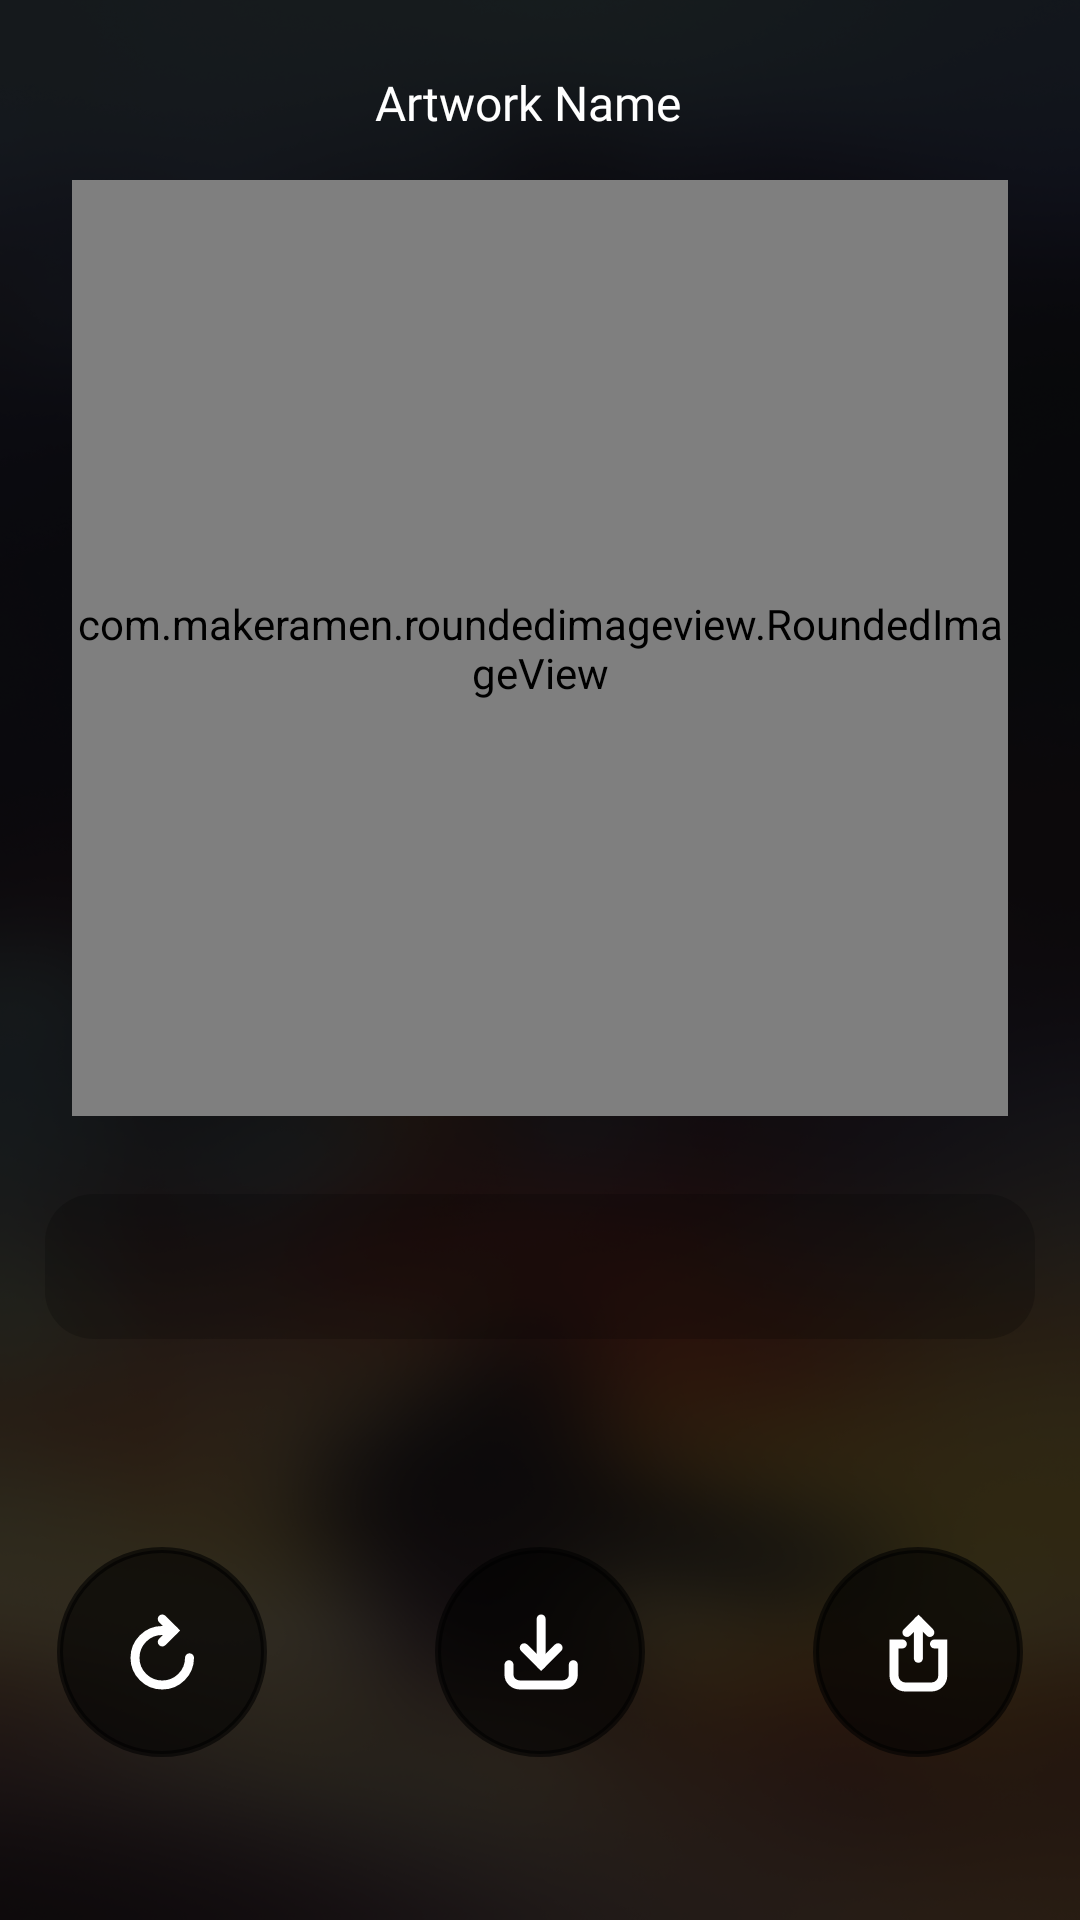

Screen size 1080px x 1920px. Icon name, then its box in pixels as [x1, y1, x2, y2]:
generate save: [435, 1547, 642, 1754]
generate share: [813, 1547, 1023, 1757]
re create: [57, 1547, 267, 1757]
